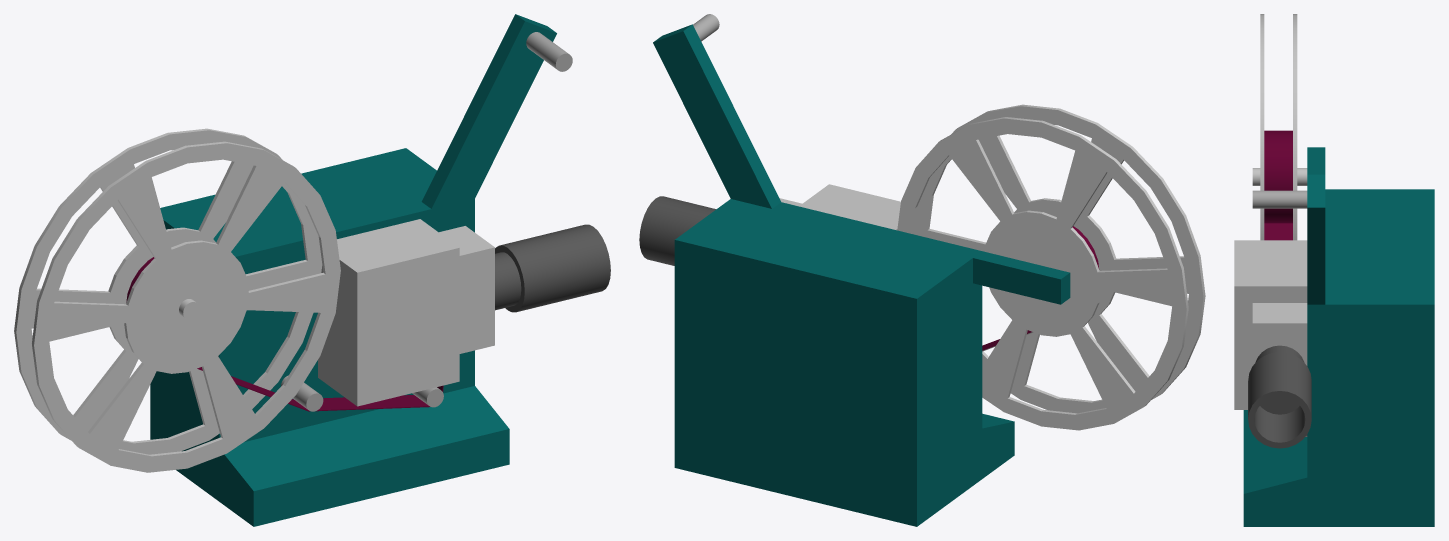
Rendered from Projector leeg.fbx.
The picture shows the model from 3 angles, left to right: view 1: azimuth 30°, elevation 25°; view 2: azimuth 150°, elevation 25°; view 3: azimuth 270°, elevation 25°; orthographic projection. The views are drawn at different scales.
Visible parts, largest first — view 1: Model; view 2: Model; view 3: Model.
Boxes of the visible parts, x1,y1,x2,y2 form: Model: [14, 14, 610, 526]; Model: [639, 14, 1205, 526]; Model: [1234, 14, 1434, 526].
Bounding box in the file's own units: 669 × 455 × 220.
